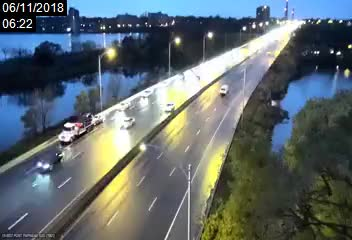personal_car: (34, 149, 64, 172), (119, 115, 136, 132), (140, 88, 157, 100), (117, 100, 132, 111), (162, 102, 176, 111), (219, 84, 230, 95)
truck: (60, 116, 103, 141)
